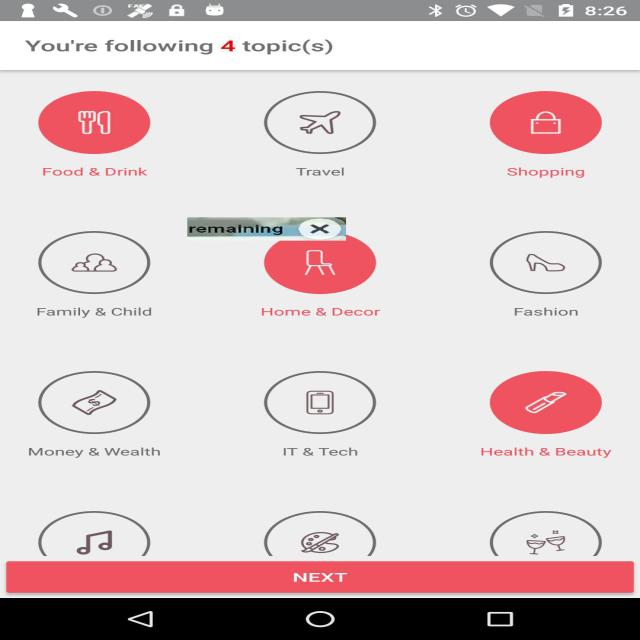misdirection: (187, 217, 346, 241)
